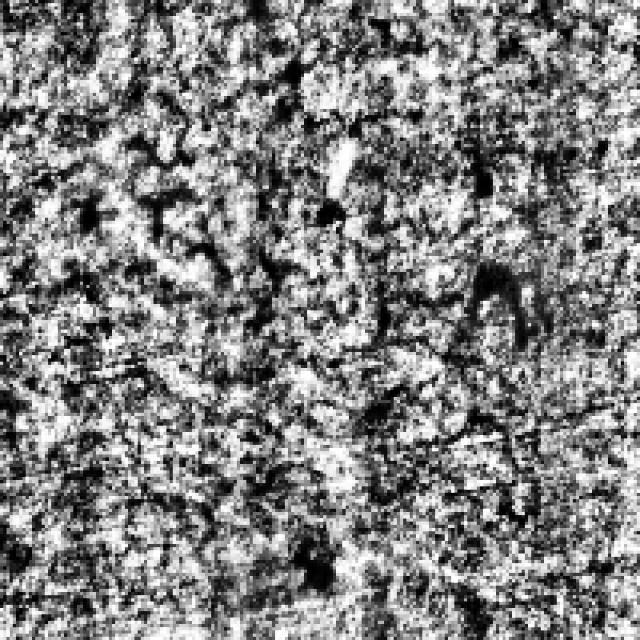Pitted_Surface: (6, 132, 228, 294), (284, 371, 522, 506)
